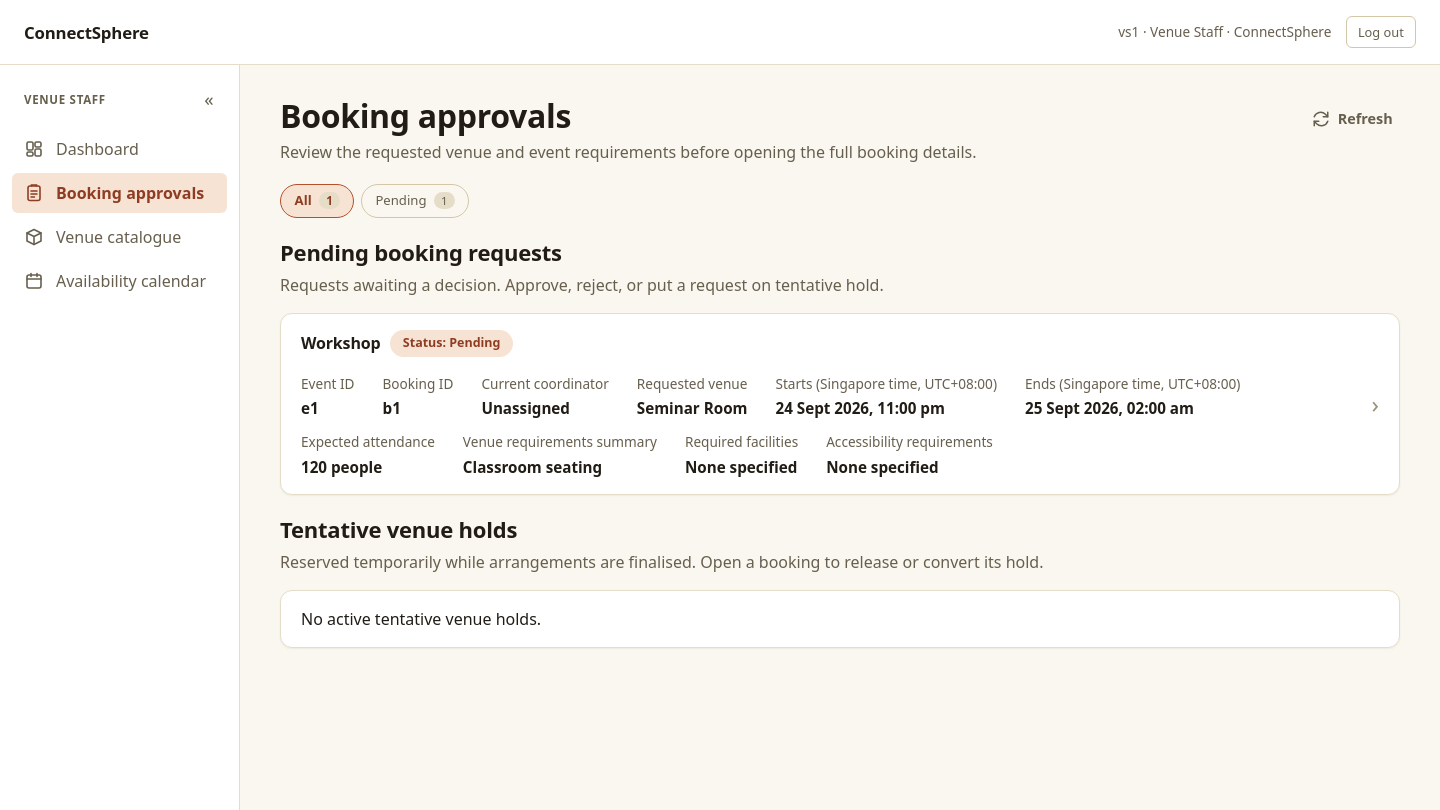
Test: renders pending summaries with status and opens the selected existing booking details
Expected: the heading "Workshop" is shown, [301,333,380,354]
Expected: the text "Status: Pending" is shown, [390,330,513,357]
What coordinates should you click on to do the following:
click the link "Workshop"
I would click on:
 (840, 404)
Its box is [280,313,1400,496].
(page scrolled)
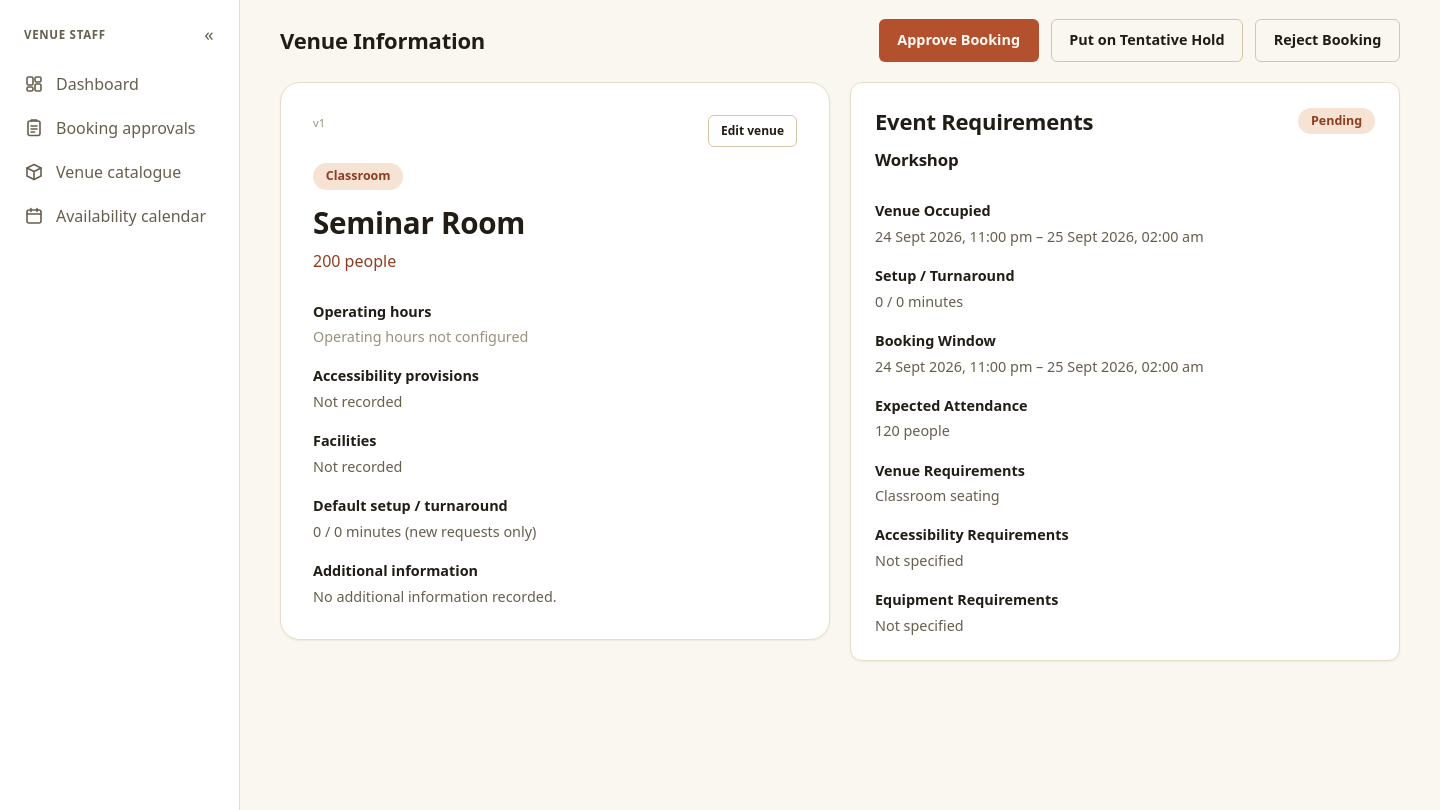
Result: the element "Event Requirements" shows "Workshop" at [875,148,958,171]
